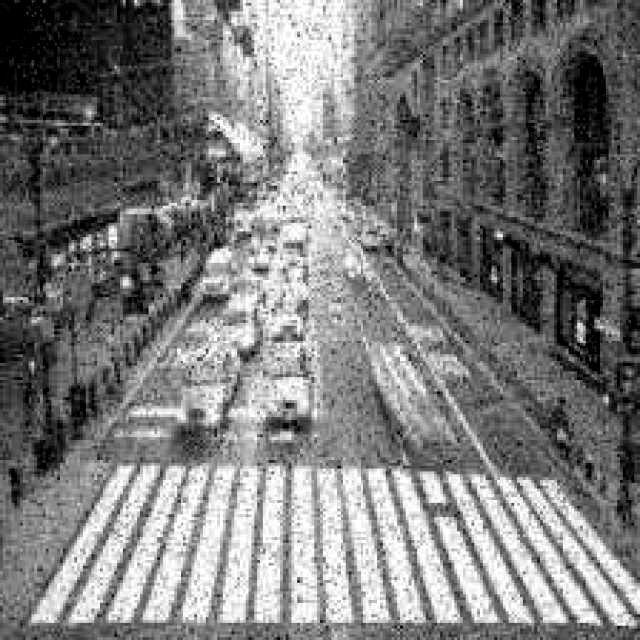crosswalk: (4, 458, 640, 640)
